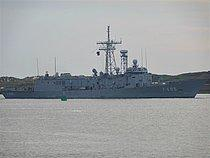MIL_Ship: (2, 25, 207, 99)
